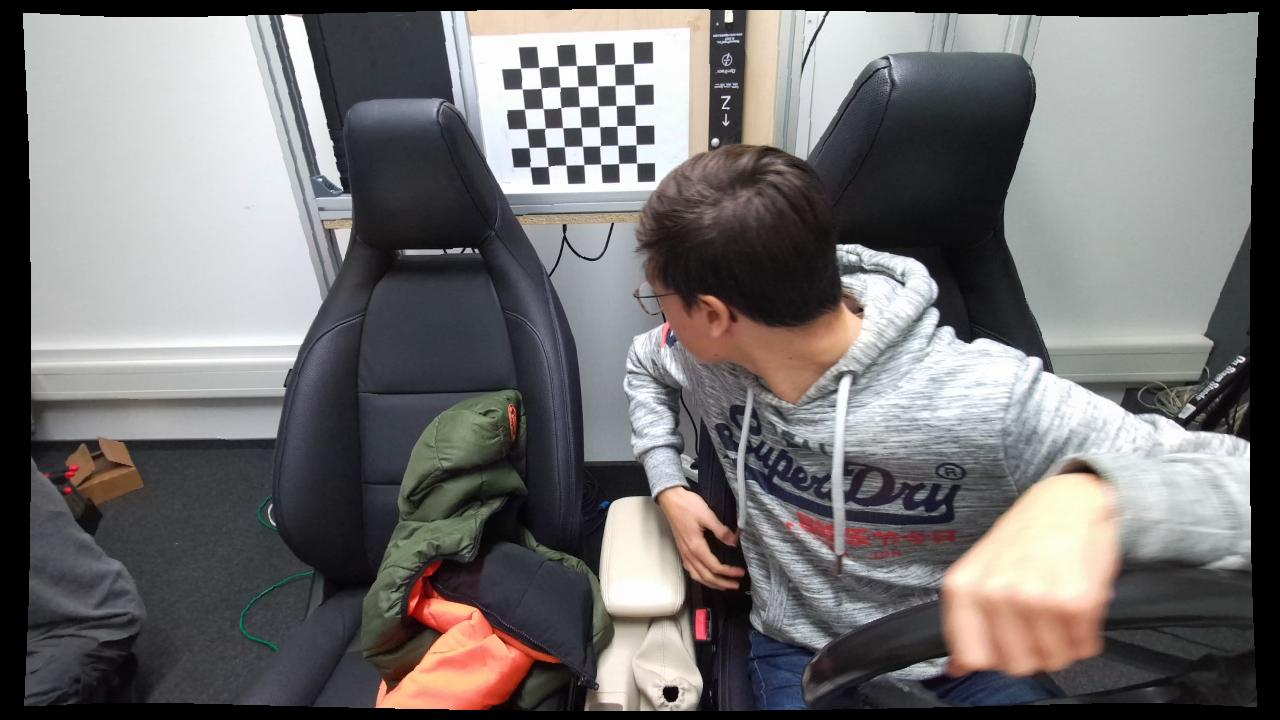Distracted: (626, 140, 1096, 710)
